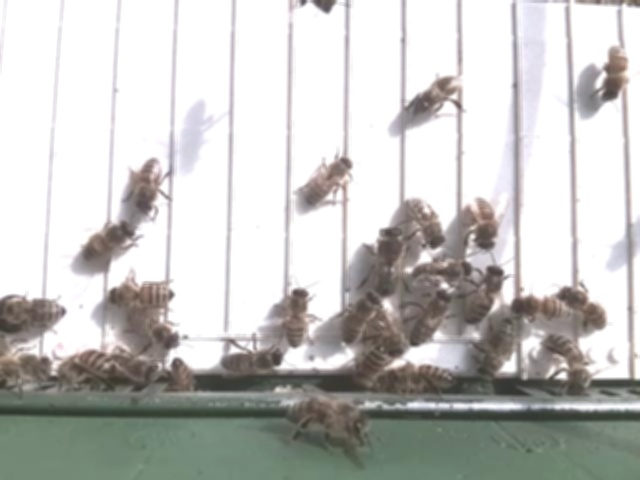Drone: (372, 224, 408, 299)
Worker: (302, 151, 358, 209), (545, 329, 596, 390), (466, 260, 508, 327), (78, 218, 139, 264), (408, 287, 454, 348), (410, 70, 470, 116), (558, 282, 612, 331), (105, 275, 180, 309), (336, 290, 383, 344), (406, 192, 449, 251), (219, 344, 286, 378), (2, 295, 70, 328), (465, 193, 502, 253), (282, 282, 315, 349), (598, 40, 632, 104), (132, 153, 166, 216), (351, 341, 391, 392), (407, 255, 471, 286), (510, 294, 573, 321)
